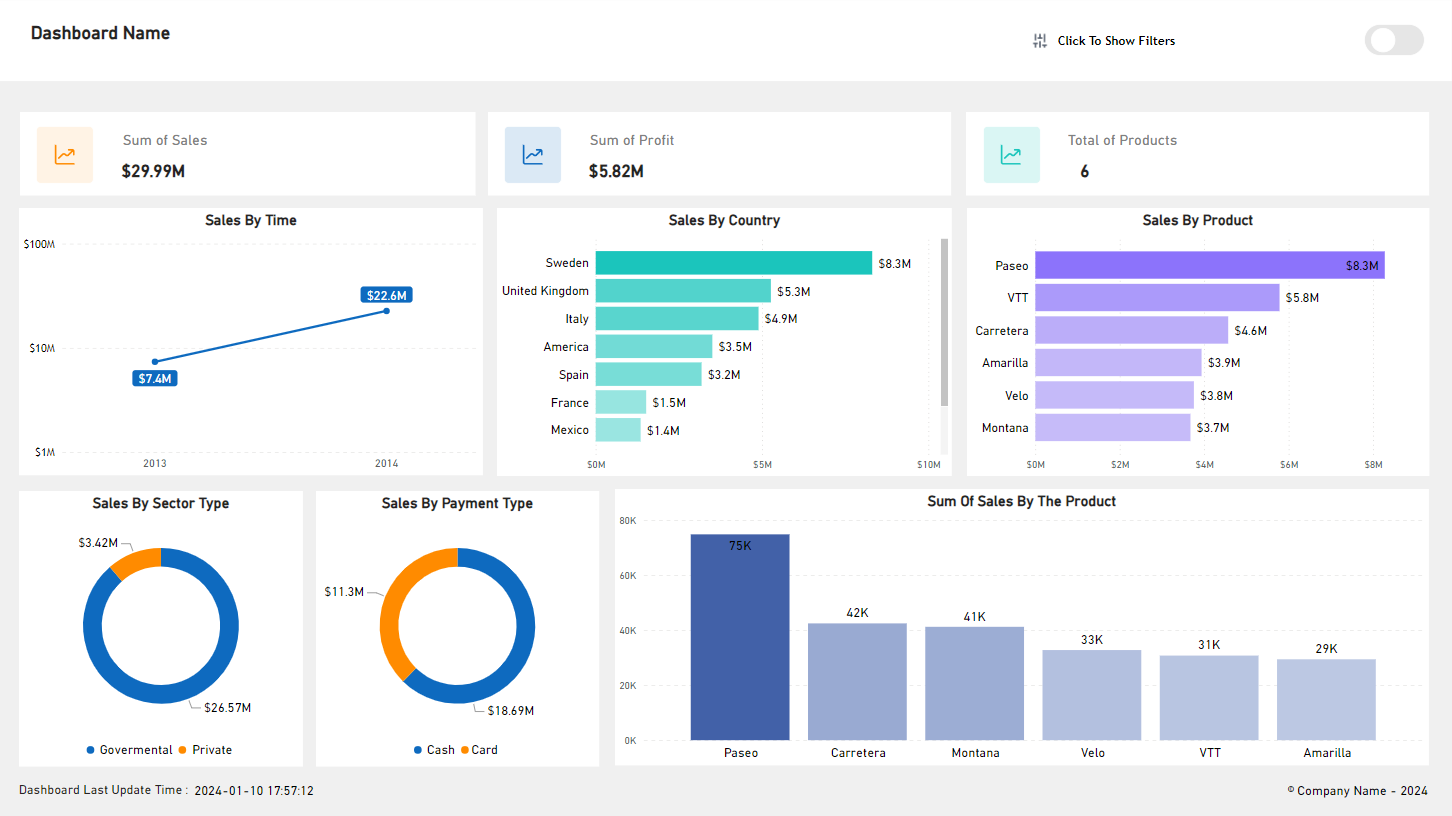

The dashboard page shown, as its layout file describes it:
{"tool":"powerbi","page":{"name":"Light Mode","canvas":[1920,1080],"ordinal":1},"visuals":[{"type":"shape","title":"BG","box":[0,0,1920,111.5],"z":0,"group":"g5"},{"type":"shape","box":[1805.1,37,80,42],"z":0,"group":"g1"},{"type":"image","box":[1362.7,43.7,29.5,30.9],"z":0,"group":"g2"},{"type":"shape","title":"BG","box":[34,152.8,599.8,109.9],"z":0,"group":"g3"},{"type":"barChart","title":"Sales By Product","fields":{"Category":["DummyData. Product "],"Y":["Sum(DummyData.  Sales )"]},"box":[1280.9,278.7,608.6,352.9],"z":0},{"type":"card","fields":{"Values":["DummyData.Company"]},"box":[1672.5,1025.2,247,44.7],"z":0,"group":"g4"},{"type":"textbox","title":"Main Text box","box":[43.3,29.3,440.9,53],"z":1000,"group":"g5"},{"type":"shape","box":[1814,42,31.6,31.6],"z":1000,"group":"g1"},{"type":"textbox","title":"Reset","box":[1395.3,45,219.6,41.3],"z":1000,"group":"g2"},{"type":"card","fields":{"Values":["Sum(DummyData.  Sales )"]},"box":[147.6,201.2,124.8,57.1],"z":1000,"group":"g3"},{"type":"lineChart","title":"Sales By Time","fields":{"Category":["DummyData.Date.Variation.Date Hierarchy.Year"],"Y":["Sum(DummyData.  Sales )"]},"box":[33.5,279.1,611.2,351.6],"z":1000},{"type":"card","fields":{"Values":["Min(LastUpdateDate.LastUpdateDate)"]},"box":[197.8,1025.2,289.8,44.8],"z":1000,"group":"g4"},{"type":"group","id":"g1","title":"Switch Button","box":[1796.8,33.2,96.3,50.1],"z":2000,"group":"g5"},{"type":"actionButton","box":[1796.8,33.2,96.3,50.1],"z":2000,"group":"g1"},{"type":"actionButton","box":[1350.7,33.5,260.4,51.4],"z":2000,"group":"g2"},{"type":"textbox","title":"Text box","box":[163.8,174.2,300.5,43.8],"z":2000,"group":"g3"},{"type":"barChart","title":"Sales By Country","fields":{"Y":["Sum(DummyData.  Sales )"],"Category":["DummyData.Country"]},"box":[663,278.7,599.3,352.9],"z":2000},{"type":"textbox","title":"Text box","box":[27.9,1030.8,244.2,40.5],"z":2000,"group":"g4"},{"type":"group","id":"g2","title":"Show Filters","box":[1350.7,33.5,264.2,52.8],"z":3000,"group":"g5"},{"type":"shape","title":"BG","box":[651,152.7,610.1,109.9],"z":3000,"group":"g3"},{"type":"columnChart","title":"Sum Of Sales By The Product","fields":{"Y":["Sum(DummyData.Units Sold)"],"Category":["DummyData. Product "]},"box":[818,649.6,1071.5,363.8],"z":3000},{"type":"shape","title":"Rectangle Right","box":[54.4,170.8,76,76],"z":4000,"group":"g3"},{"type":"donutChart","title":"Sales By Sector Type","fields":{"Category":["DummyData. Sector Type "],"Y":["Sum(DummyData.  Sales )"]},"box":[33.5,651.6,374,362.8],"z":4000},{"type":"shape","title":"BG","box":[1279.5,152.7,610.1,109.9],"z":5000,"group":"g3"},{"type":"donutChart","title":"Sales By Payment Type","fields":{"Category":["DummyData. Payment Type "],"Y":["Sum(DummyData.  Sales )"]},"box":[424.2,651.6,372.6,362.8],"z":5000},{"type":"group","id":"g3","title":"Top Cards","box":[34,152.7,1855.6,110],"z":6000},{"type":"card","fields":{"Values":["Sum(DummyData. Profit )"]},"box":[757,201.2,124.8,57.1],"z":6000,"group":"g3"},{"type":"card","title":"Card","fields":{"Values":["Count(DummyData. Product )"]},"box":[1373.7,201.9,125.5,56.9],"z":7000,"group":"g3"},{"type":"group","id":"g4","title":"Footer","box":[27.9,1025.2,1891.6,46],"z":7000},{"type":"group","id":"g5","title":"Navbar","box":[0,0,1920,111.5],"z":8000},{"type":"textbox","title":"Text box","box":[780,174.2,300.5,43.8],"z":8000,"group":"g3"},{"type":"textbox","title":"Text box","box":[1408.8,174.2,300.5,43.8],"z":9000,"group":"g3"},{"type":"shape","title":"Rectangle Right","box":[671.6,170.8,76,76],"z":10000,"group":"g3"},{"type":"shape","title":"Rectangle Right","box":[1301.8,170.8,76,76],"z":11000,"group":"g3"},{"type":"image","box":[690.7,191.2,36.3,36.3],"z":12000,"group":"g3"},{"type":"image","box":[1321.4,191.2,36.3,36.3],"z":13000,"group":"g3"},{"type":"image","box":[75.3,191.2,36.3,36.3],"z":14000,"group":"g3"}]}

Visuals, with their boxes in screenshot pixels (x1, y1, x2, y2), scaled from the page's 1920x1080 canvas onto the 1452x816 screenshot:
"BG" shape: [0,0,1451,84]
shape: [1365,28,1426,60]
image: [1031,33,1053,56]
"BG" shape: [26,115,479,198]
"Sales By Product" barChart: [969,211,1429,477]
card - DummyData.Company: [1265,775,1451,808]
"Main Text box" textbox: [33,22,366,62]
shape: [1372,32,1396,56]
"Reset" textbox: [1055,34,1221,65]
card - Sum(DummyData.  Sales ): [112,152,206,195]
"Sales By Time" lineChart: [25,211,488,477]
card - Min(LastUpdateDate.LastUpdateDate): [150,775,369,808]
"Switch Button" group: [1359,25,1432,63]
actionButton: [1359,25,1432,63]
actionButton: [1021,25,1218,64]
"Text box" textbox: [124,132,351,165]
"Sales By Country" barChart: [501,211,955,477]
"Text box" textbox: [21,779,206,809]
"Show Filters" group: [1021,25,1221,65]
"BG" shape: [492,115,954,198]
"Sum Of Sales By The Product" columnChart: [619,491,1429,766]
"Rectangle Right" shape: [41,129,99,186]
"Sales By Sector Type" donutChart: [25,492,308,766]
"BG" shape: [968,115,1429,198]
"Sales By Payment Type" donutChart: [321,492,603,766]
"Top Cards" group: [26,115,1429,198]
card - Sum(DummyData. Profit ): [572,152,667,195]
"Card" card: [1039,153,1134,196]
"Footer" group: [21,775,1451,809]
"Navbar" group: [0,0,1451,84]
"Text box" textbox: [590,132,817,165]
"Text box" textbox: [1065,132,1293,165]
"Rectangle Right" shape: [508,129,565,186]
"Rectangle Right" shape: [984,129,1042,186]
image: [522,144,550,172]
image: [999,144,1027,172]
image: [57,144,84,172]
